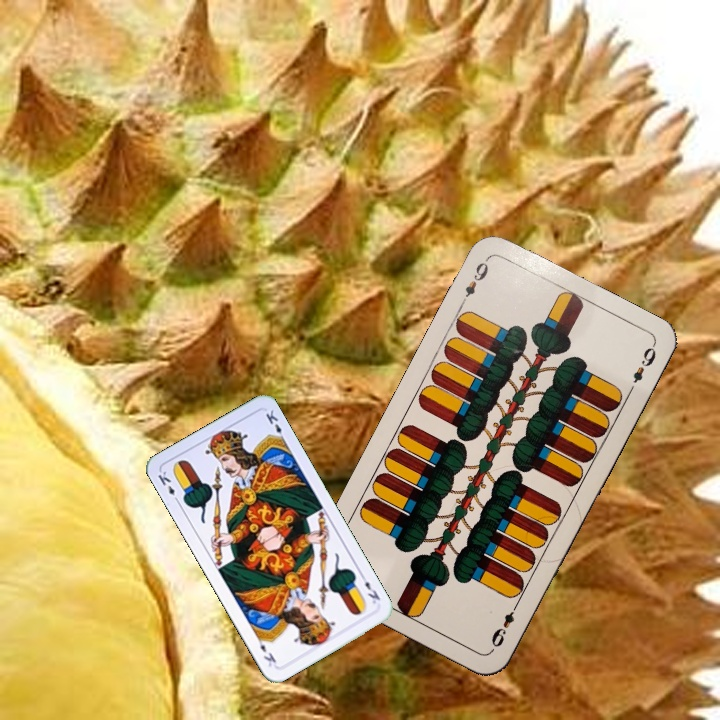E9: (456, 255, 492, 309), (487, 598, 522, 653)
EK: (154, 467, 182, 506), (357, 570, 383, 607)
